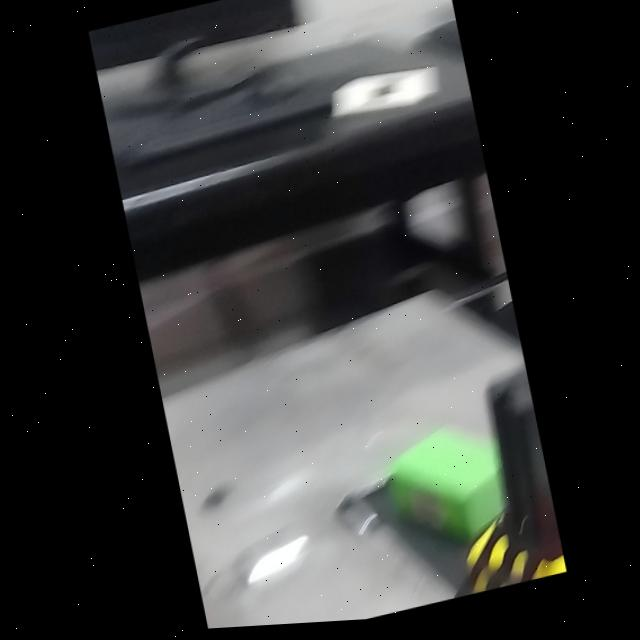greenBox: (360, 412, 534, 581)
yellowBox: (445, 493, 563, 602)
